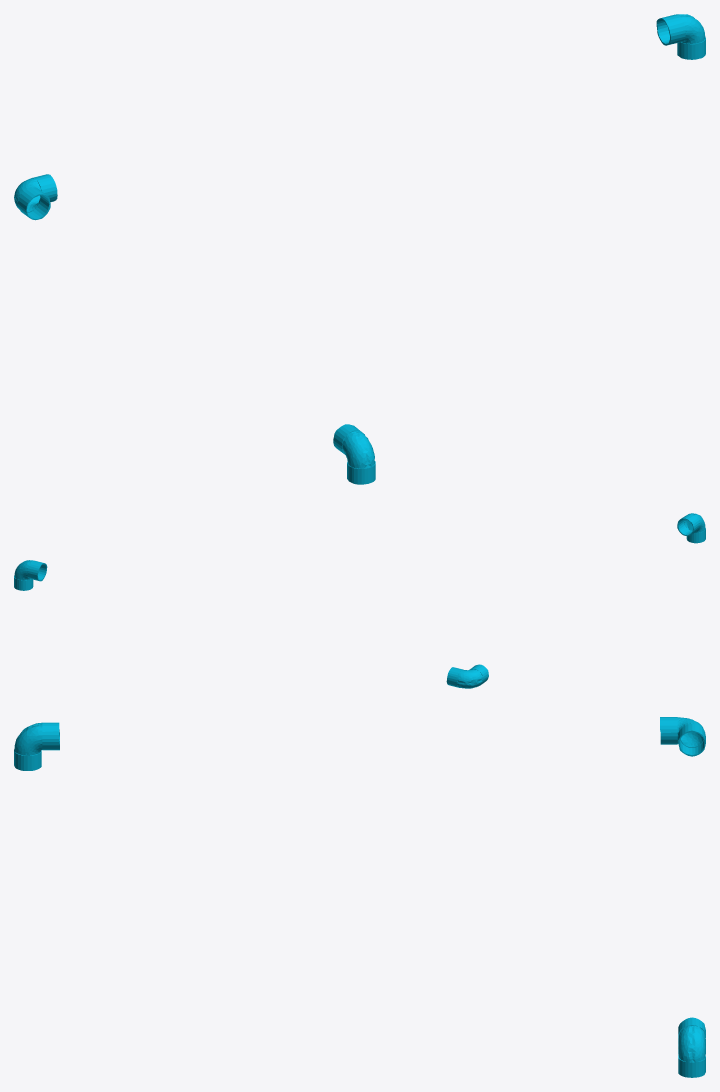
The picture shows the model from 3 angles, top to bottom: view 1: azimuth 30°, elevation 25°; view 2: azimuth 150°, elevation 25°; view 3: azimuth 270°, elevation 25°; orthographic projection. The views are drawn at different scales.
Size of the model in its own units: 1.06 by 0.0807 by 0.9337.
